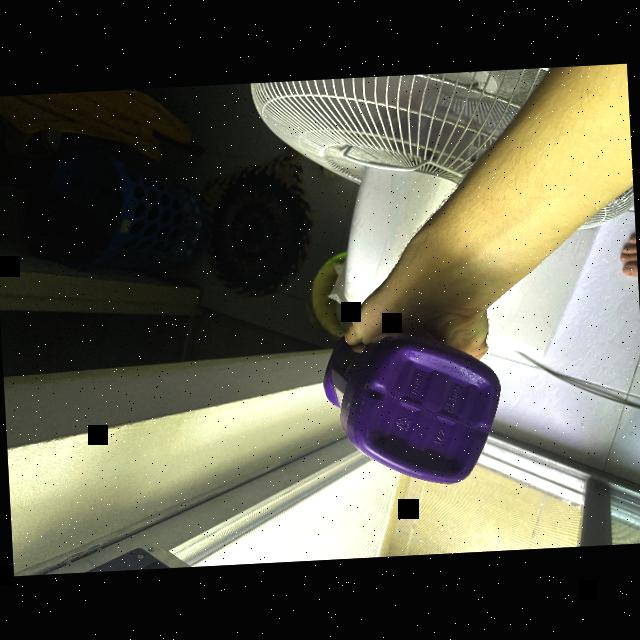toilet_cleaner: (317, 318, 518, 496)
